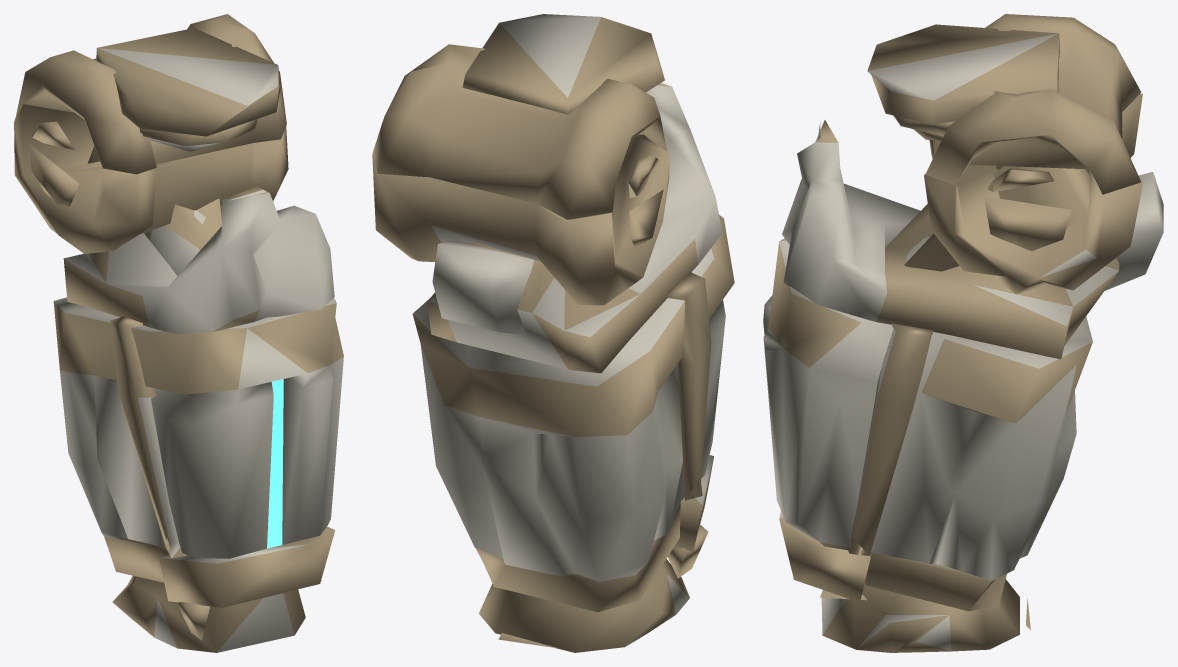
File: GolemThigh.glb
The picture shows the model from 3 angles, left to right: view 1: azimuth 30°, elevation 25°; view 2: azimuth 150°, elevation 25°; view 3: azimuth 270°, elevation 25°; orthographic projection. The views are drawn at different scales.
Parts seen in each view (by area): view 1: GolemThigh_Bend.018, PART_GolemThigh.018; view 2: GolemThigh_Bend.018, PART_GolemThigh.018; view 3: GolemThigh_Bend.018, PART_GolemThigh.018.
Part boxes in pixels (left/top/right/bottom): GolemThigh_Bend.018: left=14, top=104, right=343, bottom=652; PART_GolemThigh.018: left=14, top=14, right=286, bottom=200; GolemThigh_Bend.018: left=372, top=83, right=734, bottom=652; PART_GolemThigh.018: left=372, top=14, right=666, bottom=219; GolemThigh_Bend.018: left=763, top=93, right=1163, bottom=652; PART_GolemThigh.018: left=817, top=14, right=1140, bottom=194.
Bounding box in the file's own units: 0.4658 × 1.06 × 0.684.
